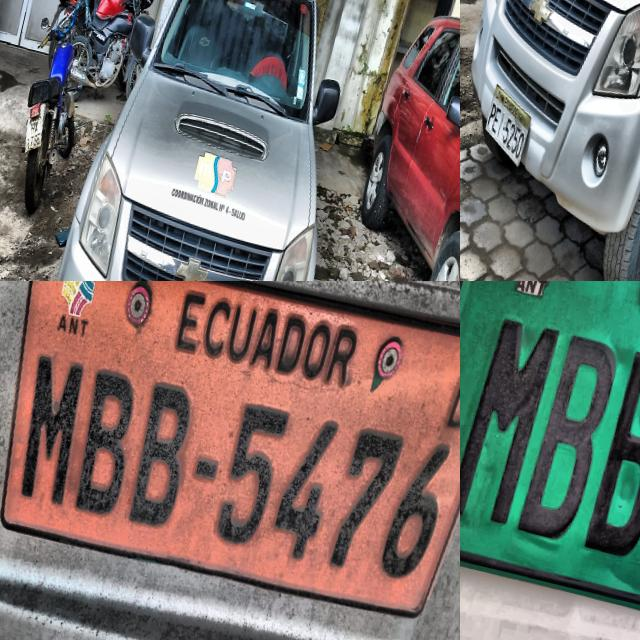license_plate: (0, 281, 460, 628), (460, 281, 640, 618), (482, 79, 533, 174)
